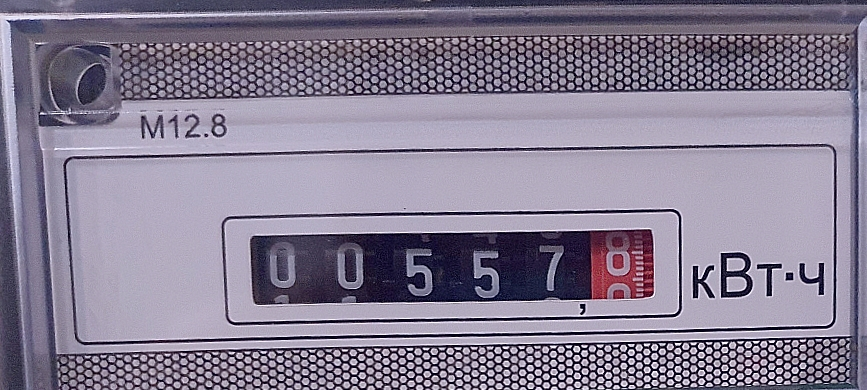0: (263, 235, 300, 292), (331, 238, 367, 291)
5: (466, 241, 506, 301), (400, 242, 436, 299)
7: (531, 238, 566, 294)
8: (602, 228, 632, 279)
screen: (216, 189, 689, 340)
